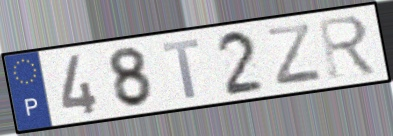2: (216, 28, 266, 98)
4: (59, 51, 101, 116)
8: (106, 45, 156, 109)
R: (315, 13, 382, 81)
T: (159, 36, 202, 101)
Z: (264, 21, 326, 88)
